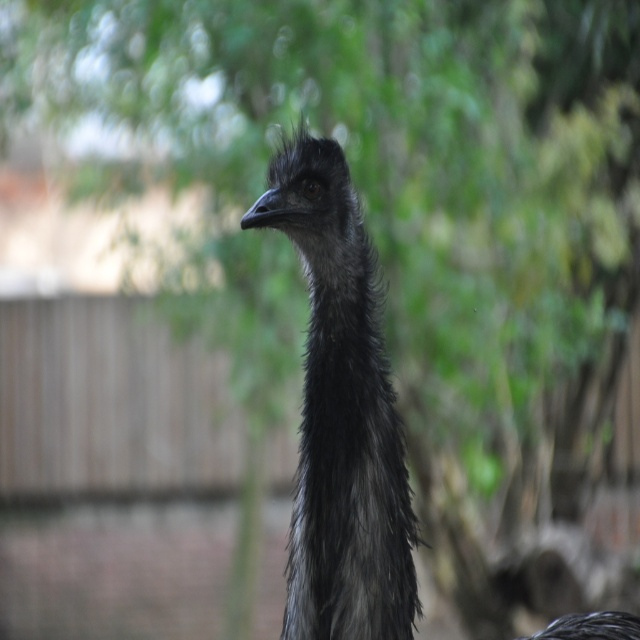Ostrich: (240, 107, 639, 640)
